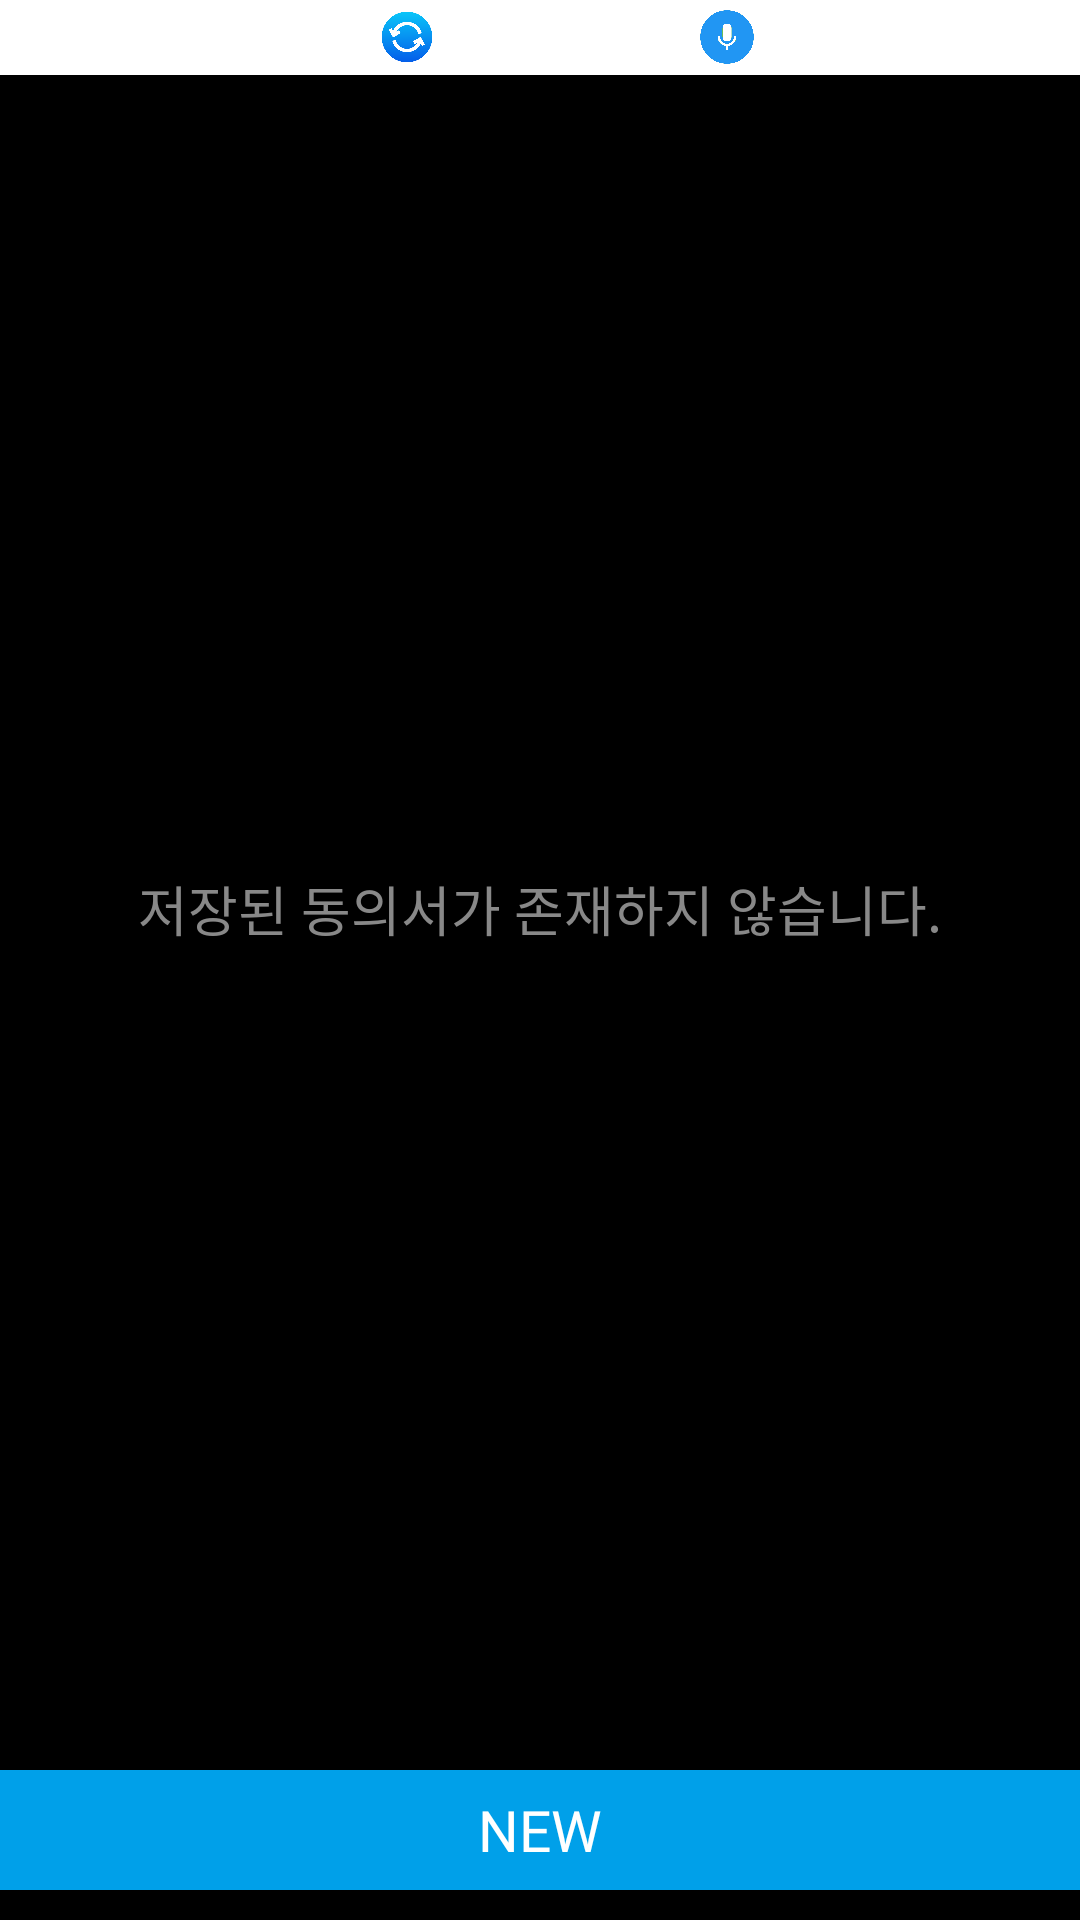

Icons on this 1080×1920 Android screen, each with the point to tap as point (x, y):
record: point (727, 37)
refresh: point (407, 37)
